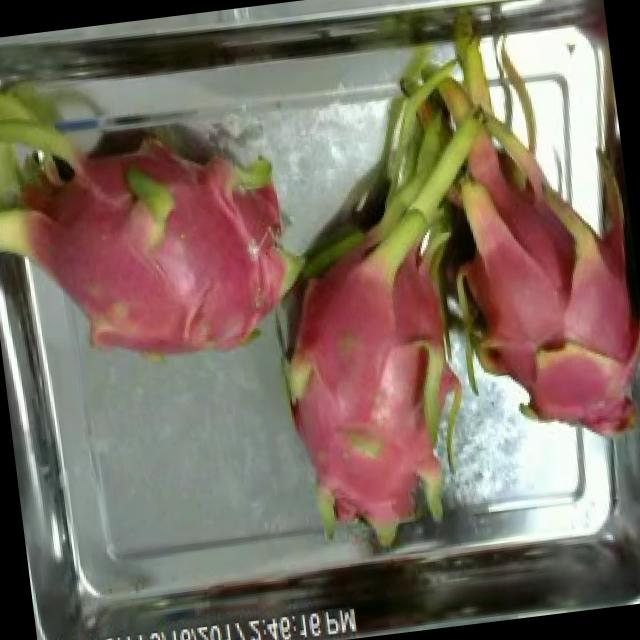Fruit: (501, 318, 640, 463)
